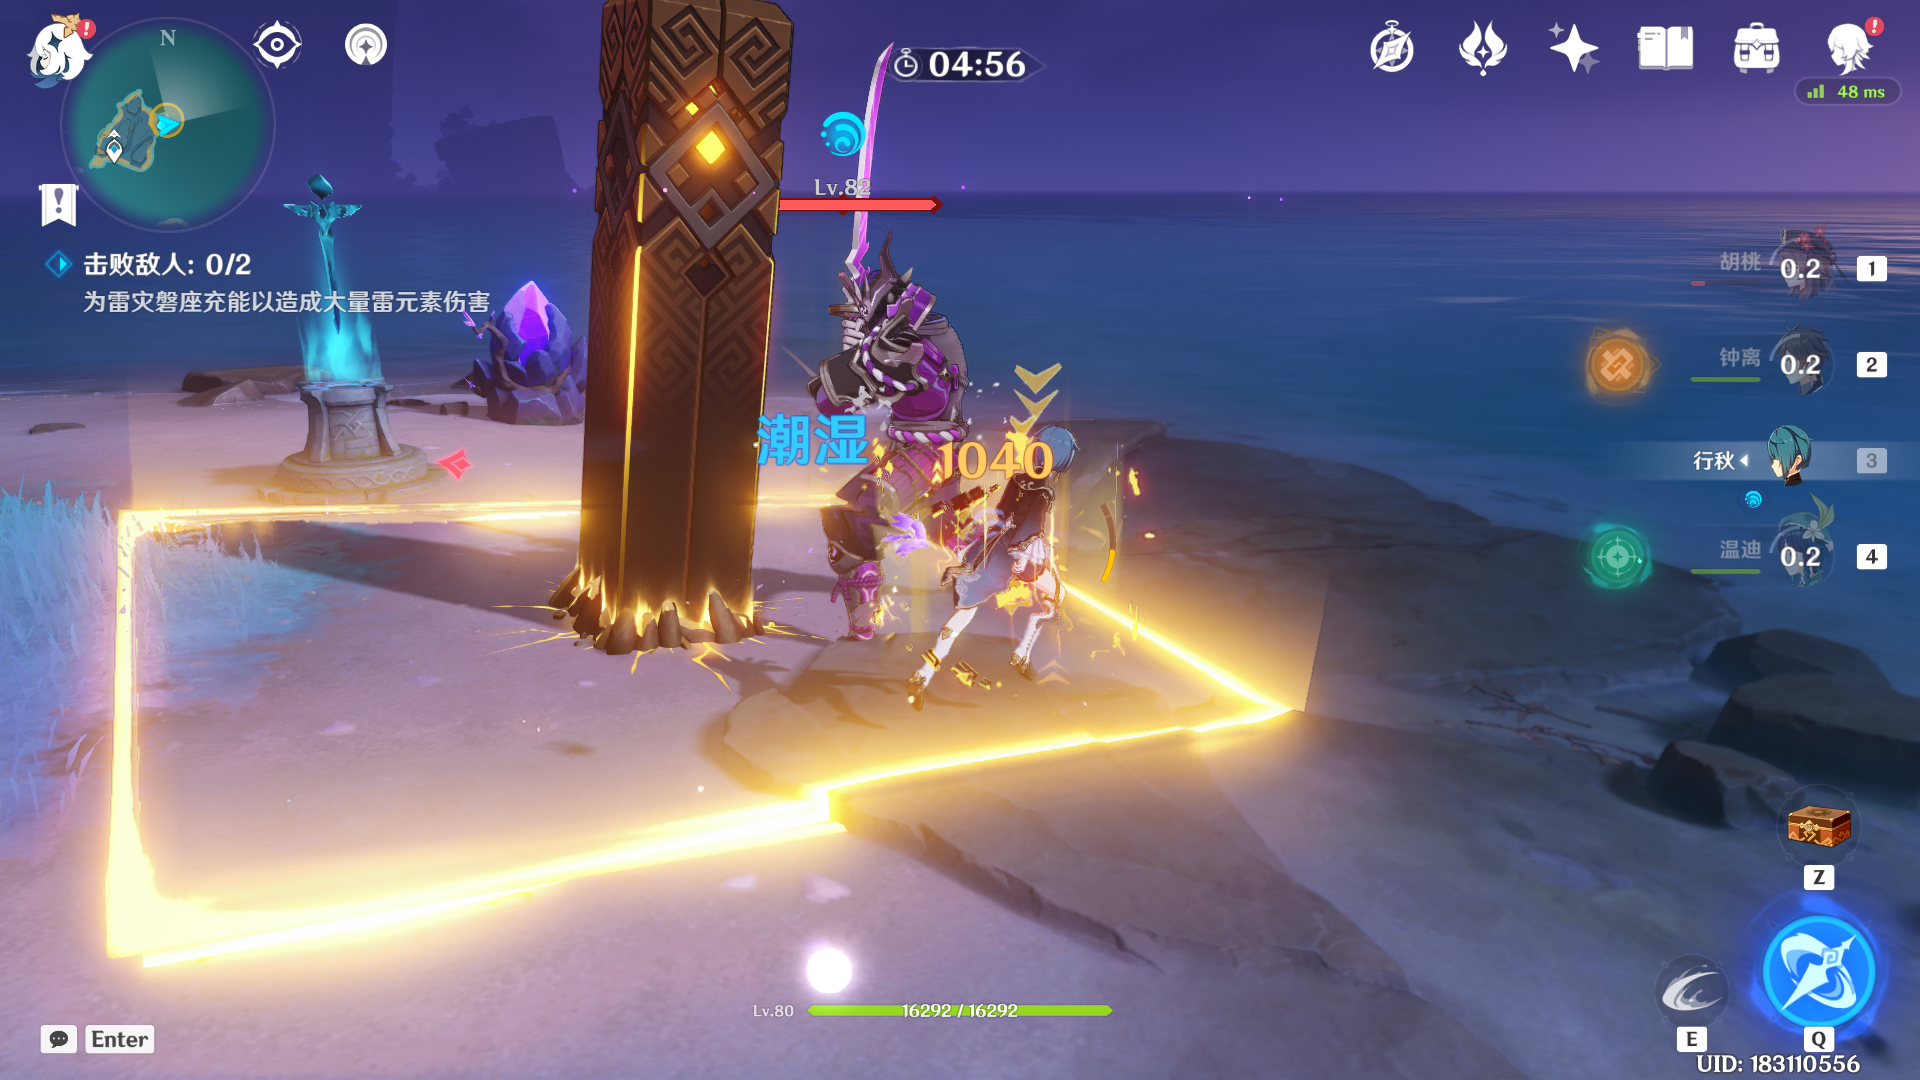character: (911, 396, 1116, 749)
samurai: (787, 148, 1043, 662)
